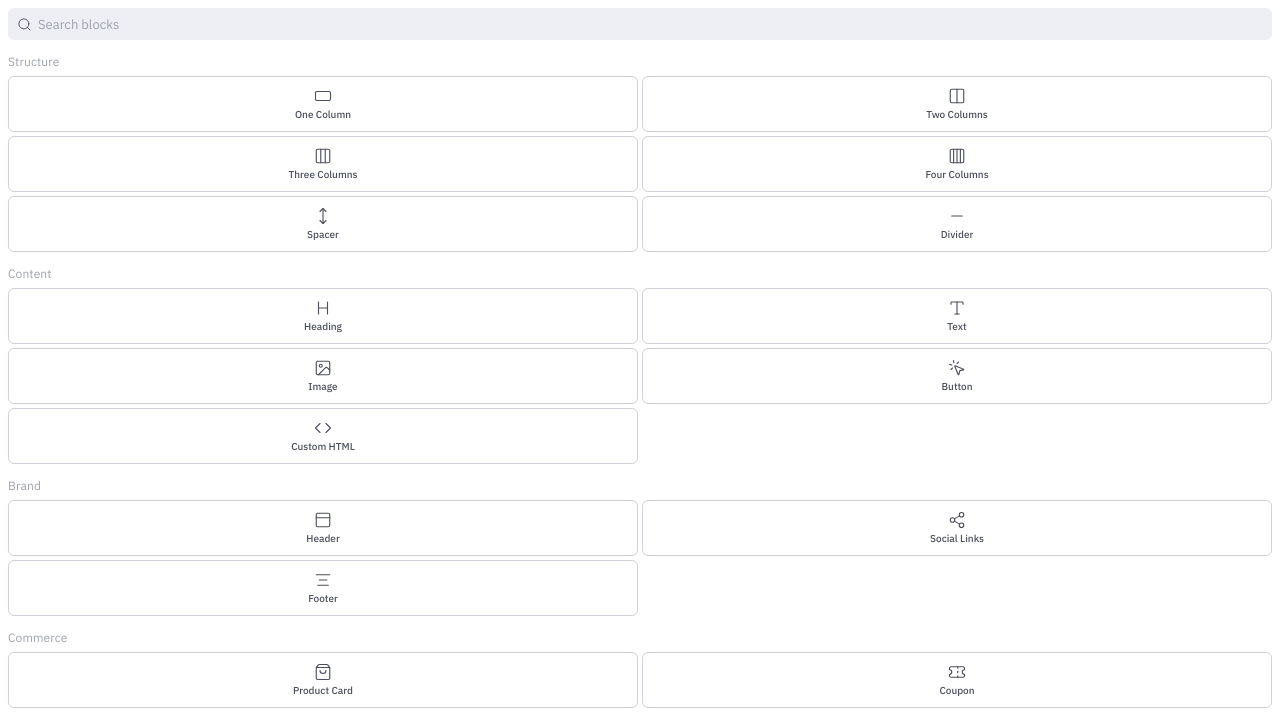
search filters by category label, case-insensitively
Type "COMMERCE" into the search field labelled "Search blocks" at (652, 24), box [38,11,1267,37]
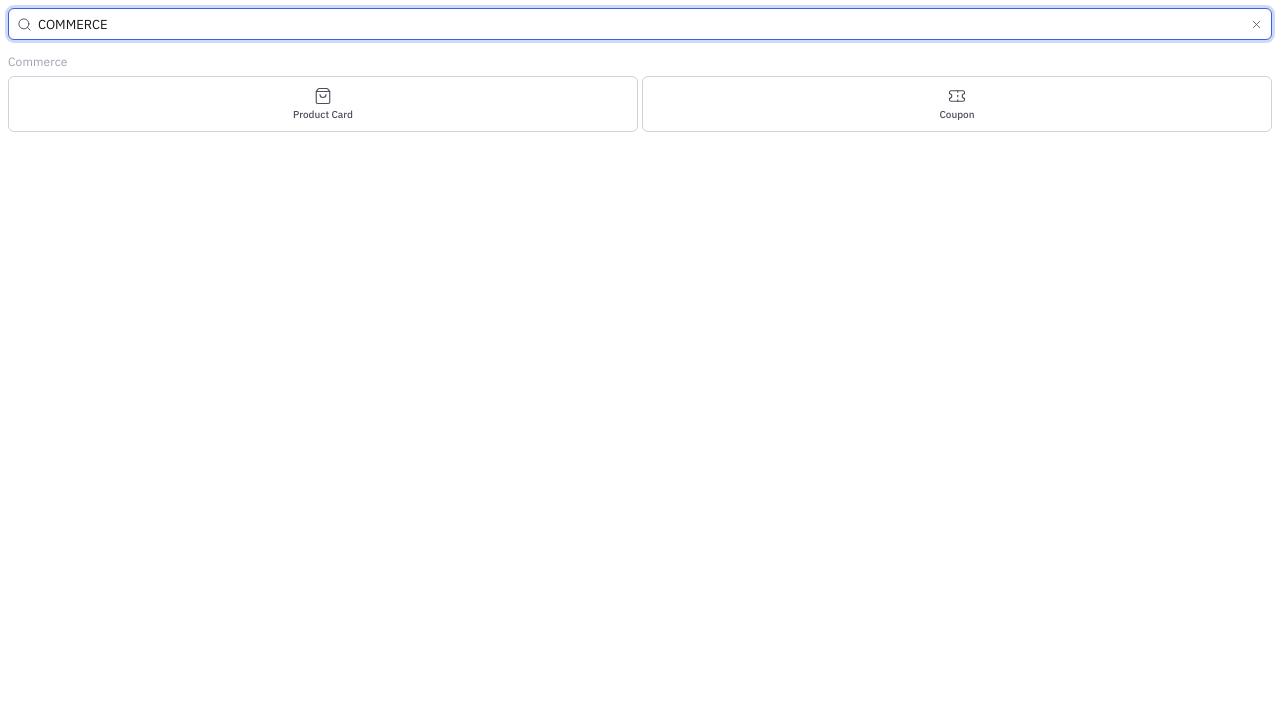
Expected: the button "Product Card" is shown, [8,76,638,132]
Now the button "Heading" is gone
